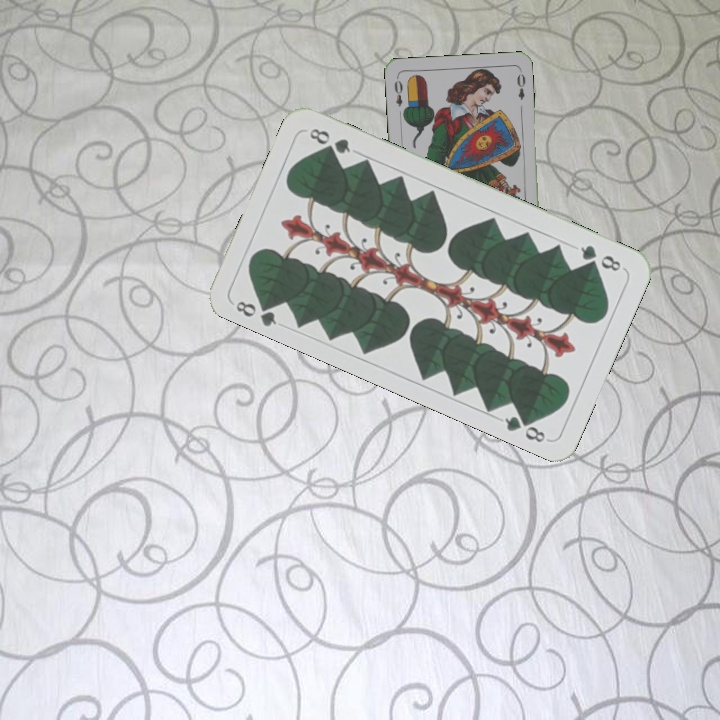EO: (390, 73, 405, 109)
G8: (231, 294, 280, 329), (576, 241, 627, 274)
